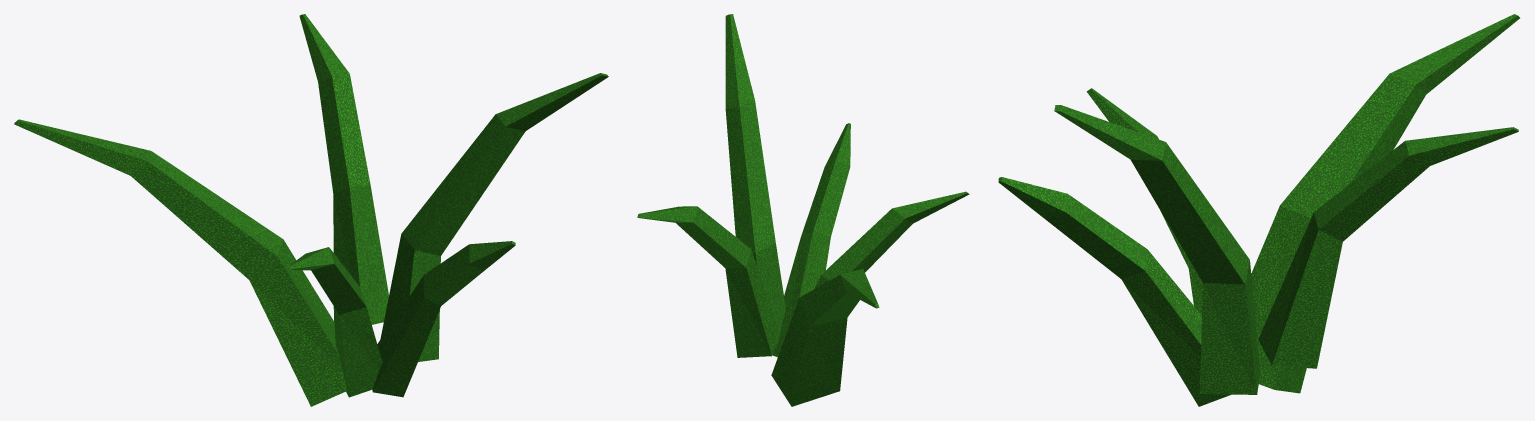
Rendered from grass.fbx.
3 renders of one model, left to right at view 1: azimuth 30°, elevation 25°; view 2: azimuth 150°, elevation 25°; view 3: azimuth 270°, elevation 25°, orthographic. The views are drawn at different scales.
Parts seen in each view (by area): view 1: Grass_Cube.001; view 2: Grass_Cube.001; view 3: Grass_Cube.001.
Part boxes in pixels (x1,y1,x2,y2): Grass_Cube.001: (14,14,608,406); Grass_Cube.001: (637,14,969,406); Grass_Cube.001: (998,14,1519,406).
Bounding box in the file's own units: 78.83 × 67.13 × 82.14.
Materials: 1 (1 with a texture image).
